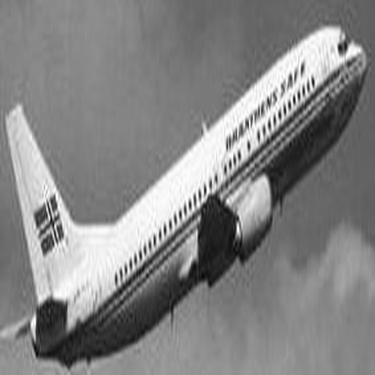airplane: (3, 2, 371, 373)
